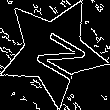N_NW: (22, 21, 84, 81)
